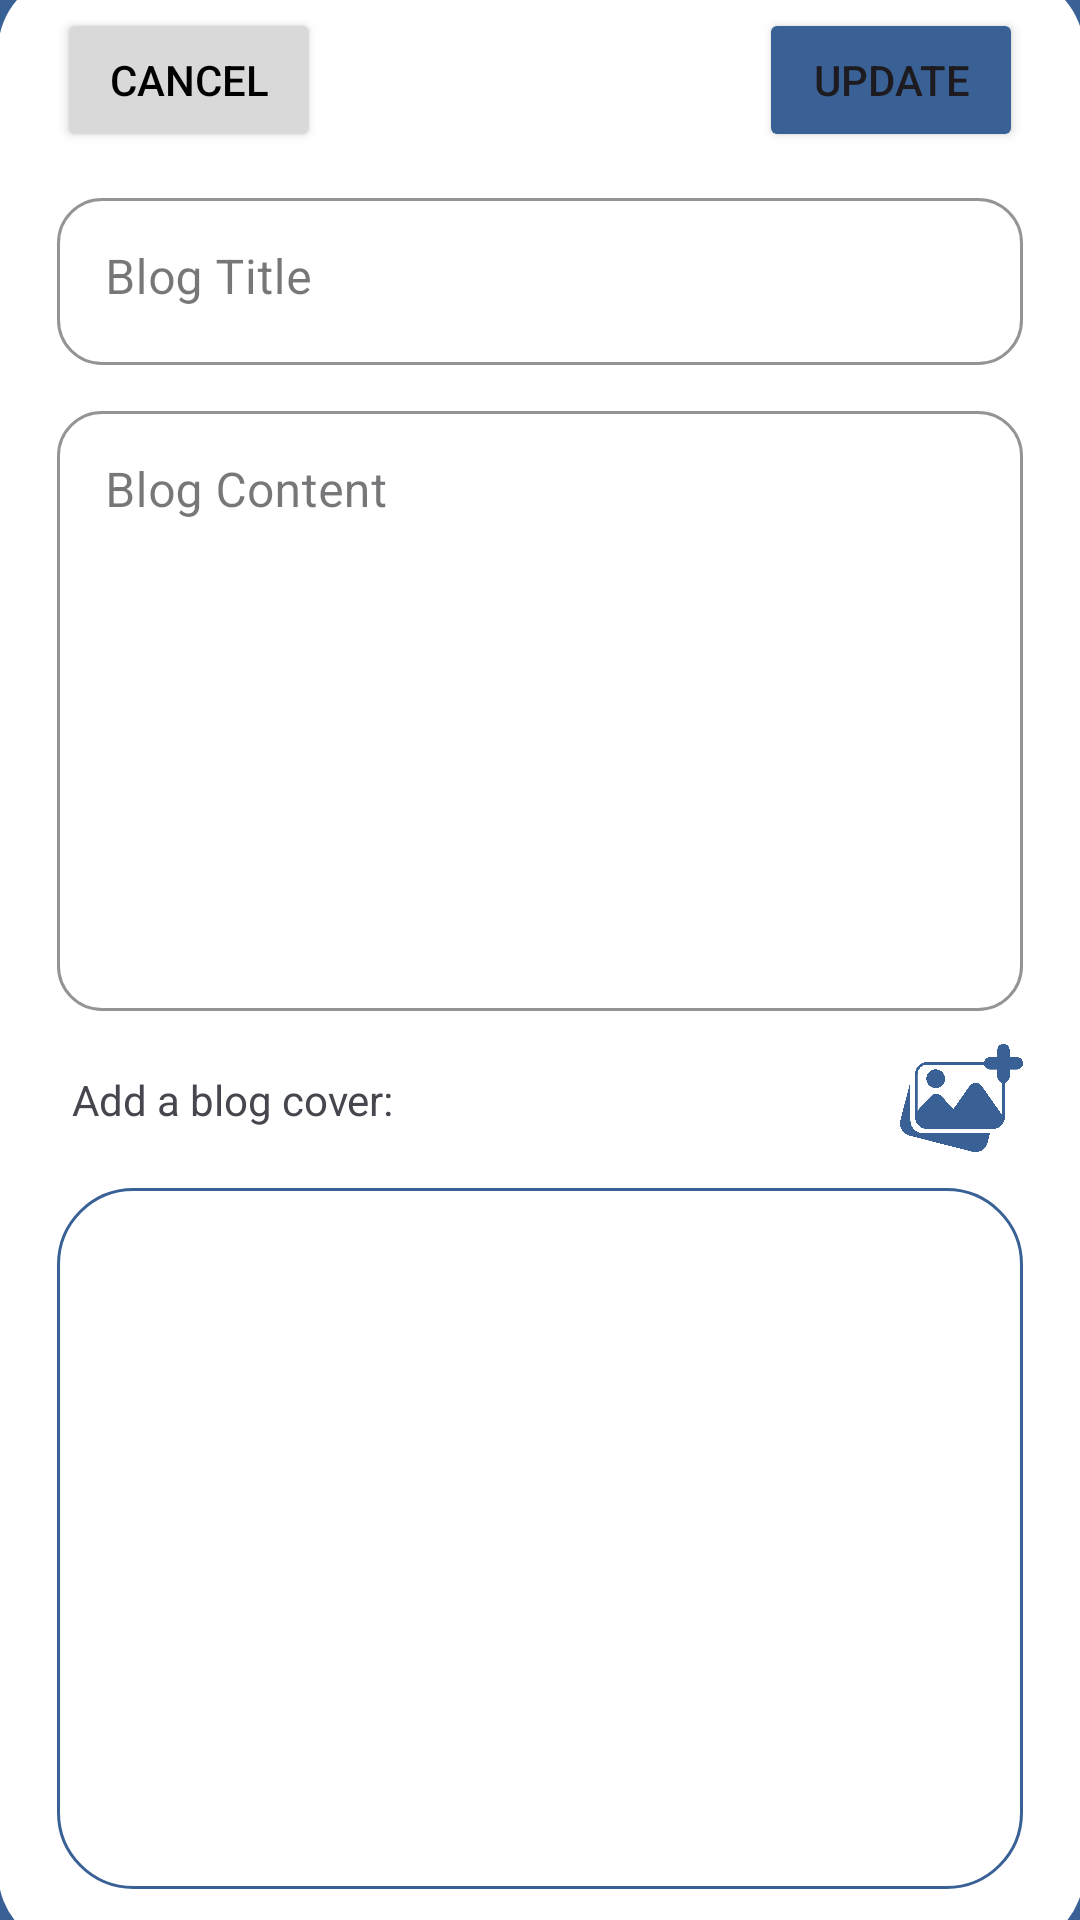

Where icons sit on this 1080×1920 app screen, as (x1, y1, x2, y2):
add: (900, 1044, 1023, 1152)
